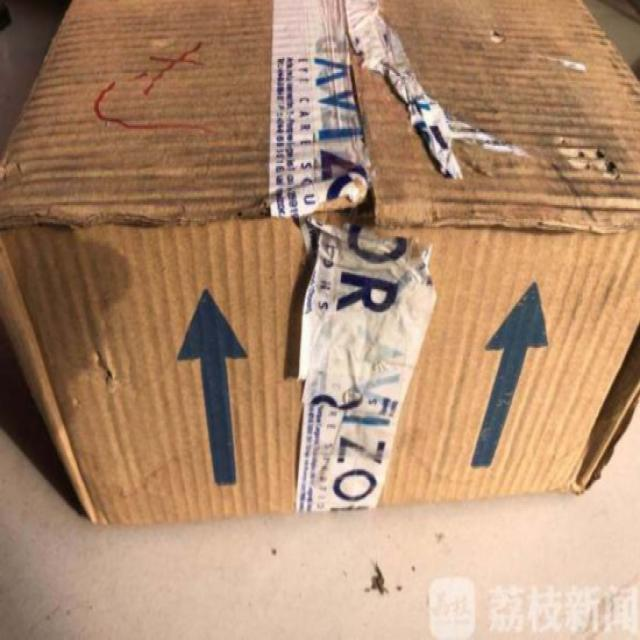wet: (0, 179, 156, 427)
